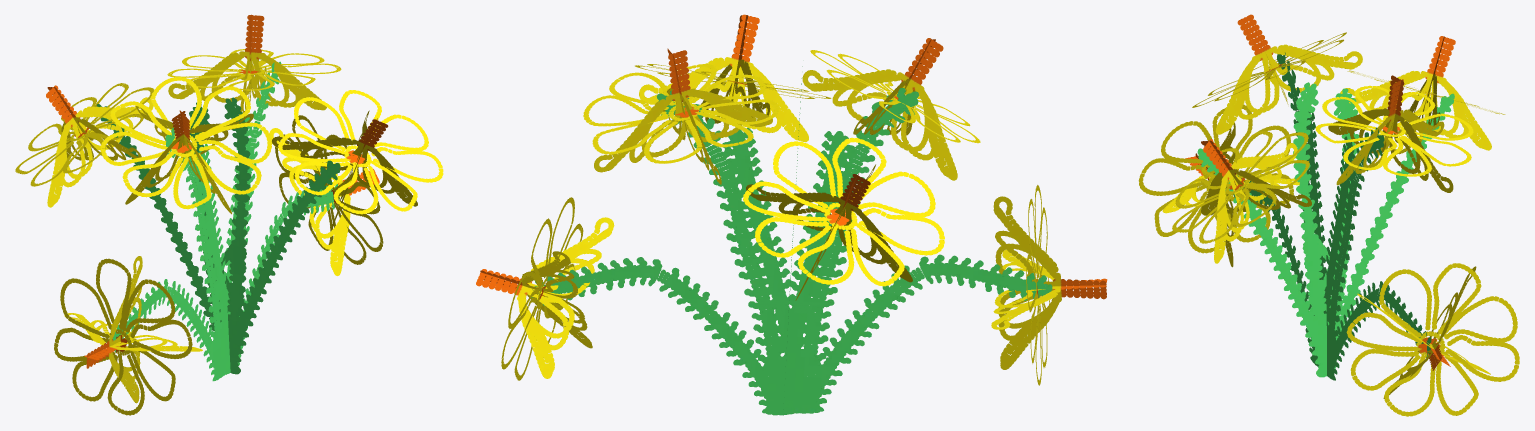
The model's file is coneflowers.glb.
3 renders of one model, left to right at view 1: azimuth 30°, elevation 25°; view 2: azimuth 150°, elevation 25°; view 3: azimuth 270°, elevation 25°, orthographic. The views are drawn at different scales.
Visible parts, largest first — view 1: coneflowers; view 2: coneflowers; view 3: coneflowers.
Boxes of the visible parts, x1=… form: coneflowers: x1=15, y1=14, x2=443, y2=415; coneflowers: x1=476, y1=14, x2=1107, y2=415; coneflowers: x1=1138, y1=14, x2=1519, y2=416.
Bounding box in the file's own units: 2.14 × 1.59 × 1.69.
Materials: 1 (1 with a texture image).
